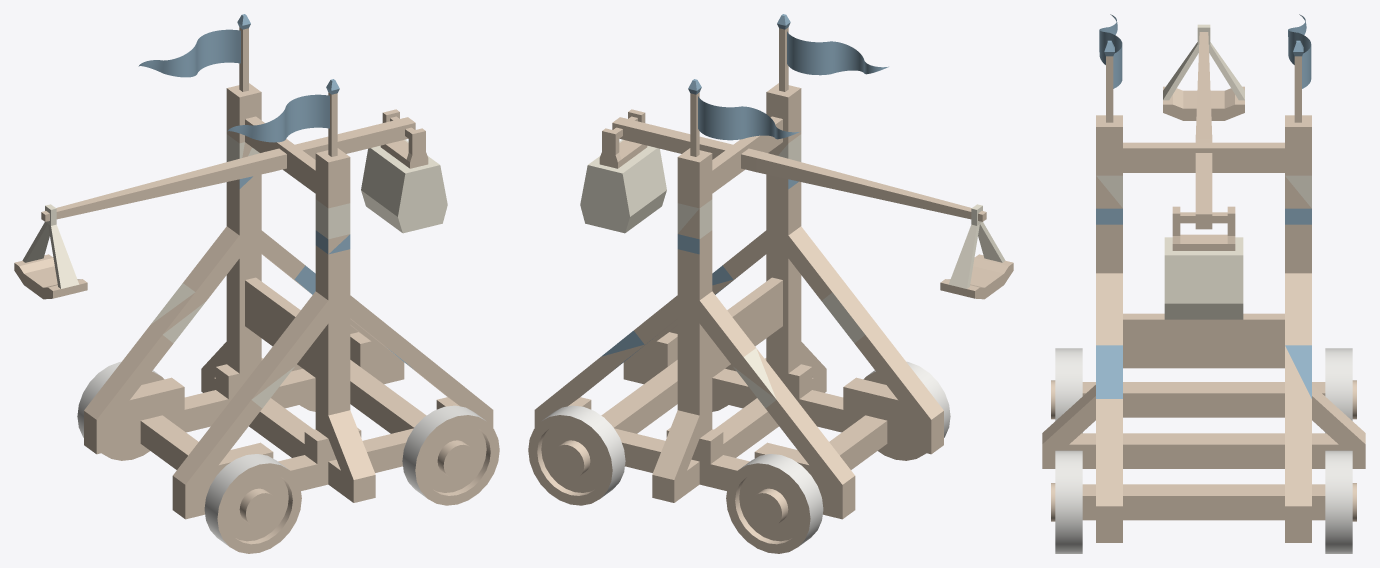
File: siegeTrebuchet.glb
3 renders of one model, left to right at view 1: azimuth 30°, elevation 25°; view 2: azimuth 150°, elevation 25°; view 3: azimuth 270°, elevation 25°, orthographic. The views are drawn at different scales.
Parts seen in each view (by area): view 1: siegeTrebuchet; view 2: siegeTrebuchet; view 3: siegeTrebuchet.
Boxes of the visible parts, box(x1,y1,x2,y2) form: siegeTrebuchet: box(14, 14, 499, 553); siegeTrebuchet: box(528, 14, 1013, 553); siegeTrebuchet: box(1042, 14, 1365, 553).
Size of the model in its own units: 19.5 by 19.59 by 12.58.
